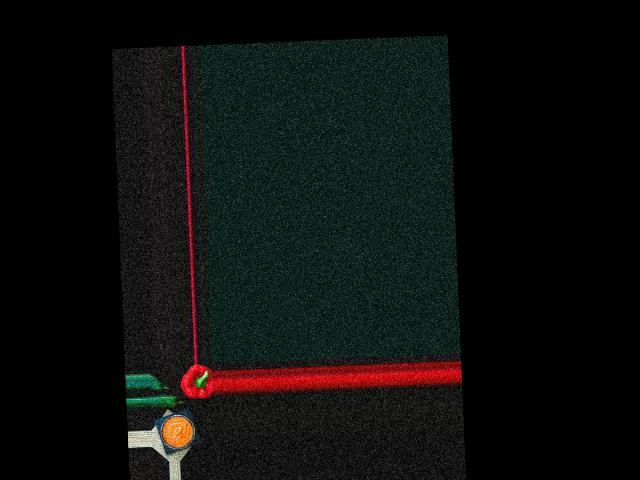bell_pepper: (181, 365, 213, 399)
